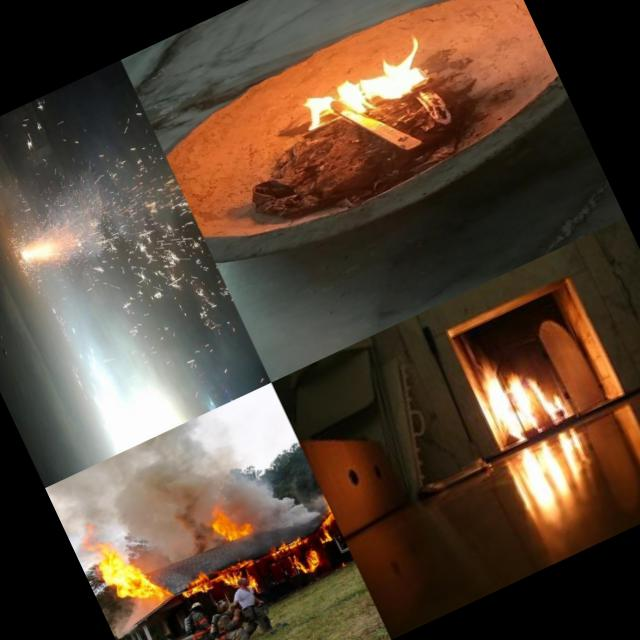fire: (277, 20, 461, 149), (461, 326, 578, 459), (88, 520, 180, 623), (151, 320, 213, 420), (178, 550, 258, 602), (266, 529, 328, 584), (200, 492, 252, 550), (306, 502, 344, 548), (167, 593, 168, 594)
smoke: (95, 432, 216, 574), (225, 454, 316, 548), (166, 404, 257, 496), (45, 464, 125, 552), (105, 591, 171, 640)
